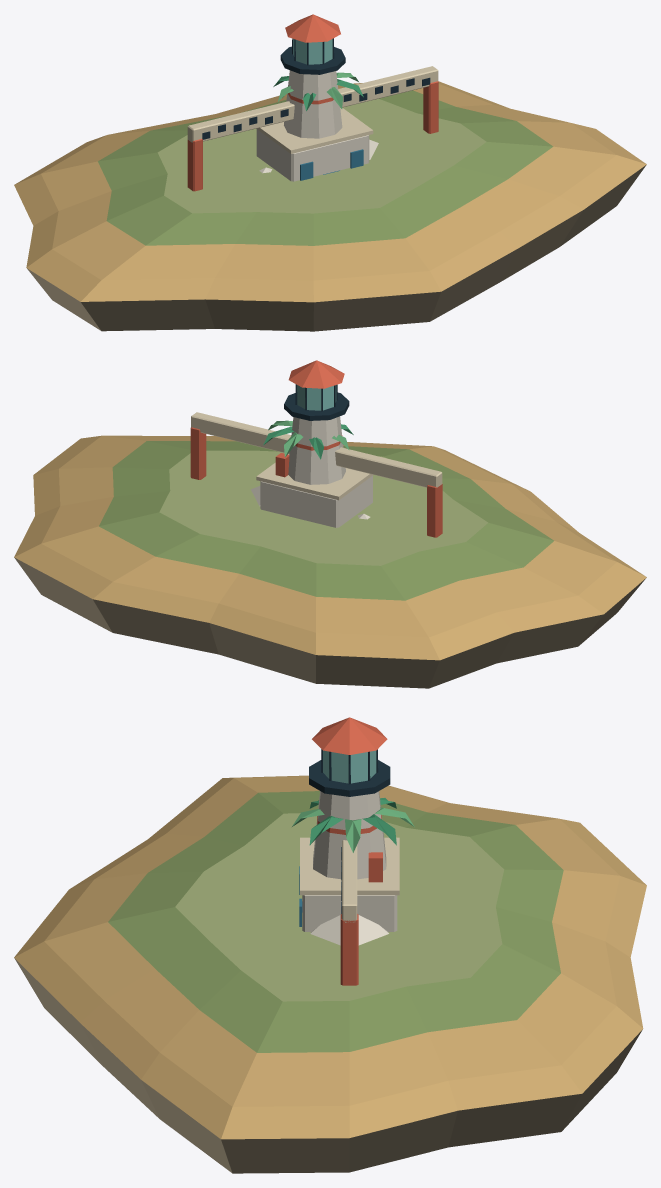
Rendered from coastal-kit.glb.
3 renders of one model, top to bottom at view 1: azimuth 30°, elevation 25°; view 2: azimuth 150°, elevation 25°; view 3: azimuth 270°, elevation 25°, orthographic. The views are drawn at different scales.
Visible parts, largest first — view 1: Island, Lighthouse, Gate, House, Palm; view 2: Island, Lighthouse, Gate, House, Palm; view 3: Island, Lighthouse, House, Gate, Palm, Cloud.
Part boxes in pixels (box(x1,y1,x2,y2)): Island: box(14, 81, 646, 331); Lighthouse: box(280, 14, 345, 138); Gate: box(187, 66, 438, 191); House: box(256, 108, 373, 181); Palm: box(273, 72, 363, 110); Island: box(14, 435, 646, 688); Lighthouse: box(284, 360, 349, 484); Gate: box(190, 412, 442, 537); House: box(256, 453, 373, 527); Palm: box(263, 420, 353, 459); Island: box(14, 775, 646, 1173); Lighthouse: box(309, 717, 390, 879); House: box(299, 837, 399, 931); Gate: box(340, 840, 358, 985); Palm: box(292, 798, 414, 852); Cloud: box(310, 915, 388, 945).
Bounding box in the file's own units: 36.37 × 13.5 × 26.66.
